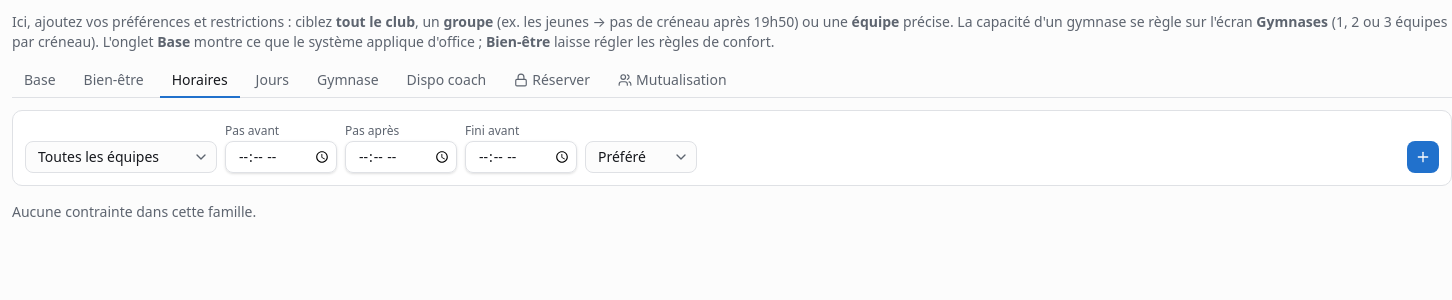
Scenario: ConstraintsStep — constraint-matrix offer lock › never drops a COACH constraint whose coach is absent from the list (revue #204)
The image size is (1452, 300).
Click the button "Dispo coach": (446, 81) top-left (395, 64), bottom-right (498, 98)
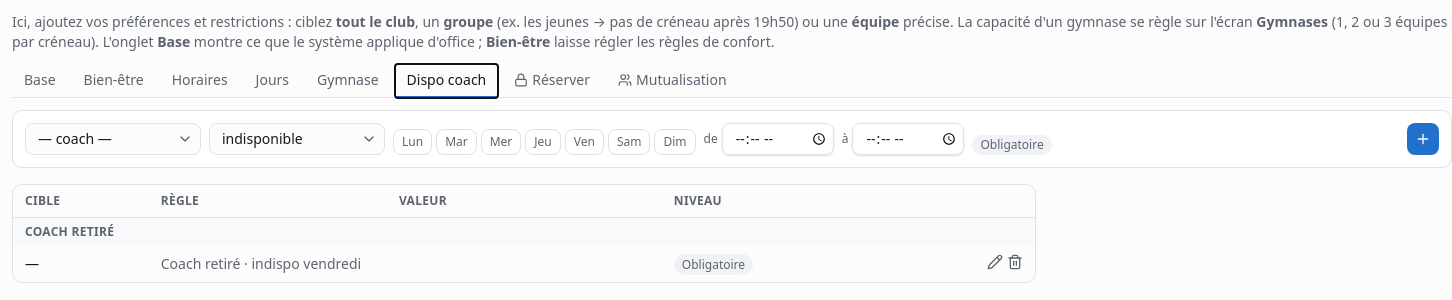
Expected: the text "Coach retiré · indispo vendredi" is shown, top-left (149, 246), bottom-right (662, 282)
